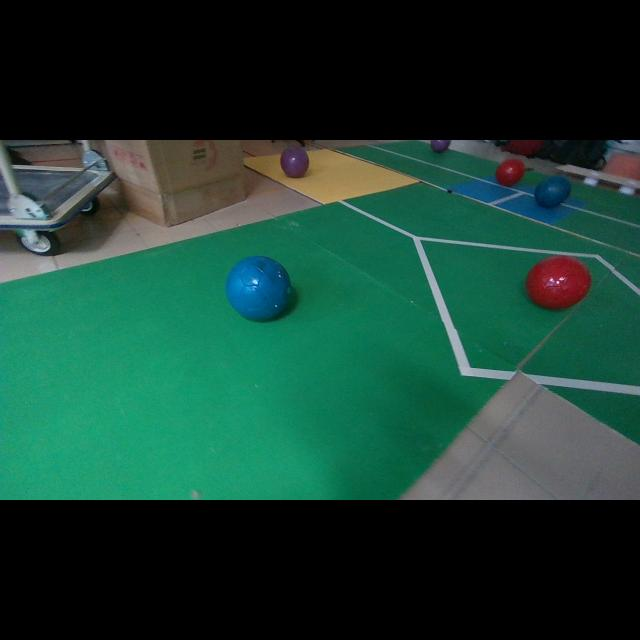B: (226, 256, 291, 320), (535, 176, 571, 207)
P: (281, 146, 309, 178), (430, 140, 451, 152)
R: (525, 255, 591, 309), (495, 159, 525, 186)
